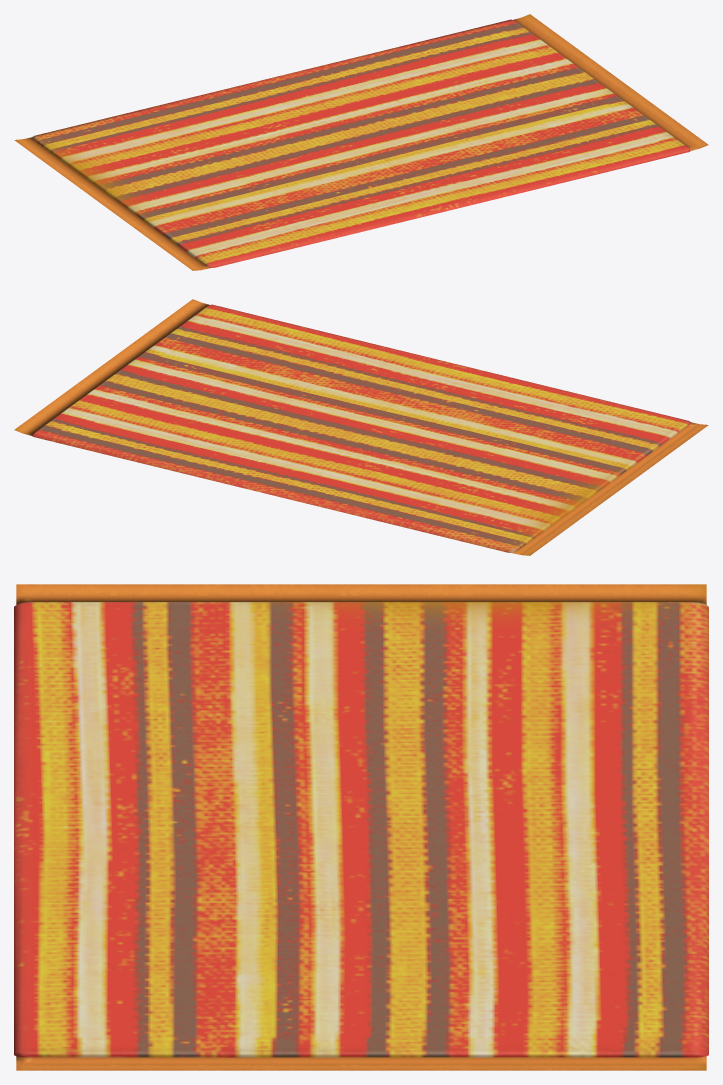
Rendered from SM_Carpet_03.fbx.
The picture shows the model from 3 angles, top to bottom: view 1: azimuth 30°, elevation 25°; view 2: azimuth 150°, elevation 25°; view 3: azimuth 270°, elevation 25°; orthographic projection. The views are drawn at different scales.
Visible parts, largest first — view 1: SM_Carpet_03_LOD0; view 2: SM_Carpet_03_LOD0; view 3: SM_Carpet_03_LOD0.
Boxes of the visible parts, bbox=[...] form: SM_Carpet_03_LOD0: bbox=[14, 14, 708, 270]; SM_Carpet_03_LOD0: bbox=[14, 299, 708, 555]; SM_Carpet_03_LOD0: bbox=[14, 584, 708, 1070].
Size of the model in its own units: 281 by 170 by 0.9535.
Materials: 1 (1 with a texture image).
